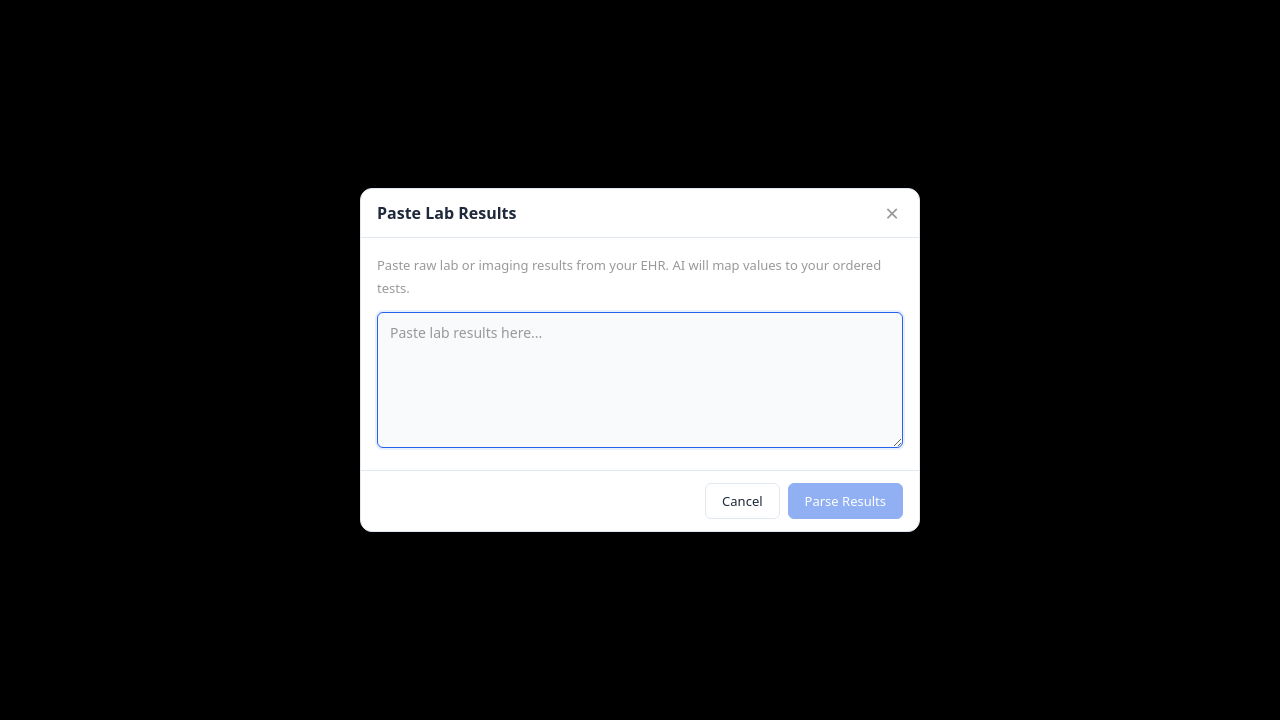
it: PasteLabModal › shows error state when no results are matched
Type "Lipase: 45" into the text box with test id "paste-textarea".
click(640, 380); type("Lipase: 45")  # box [377,312,903,448]
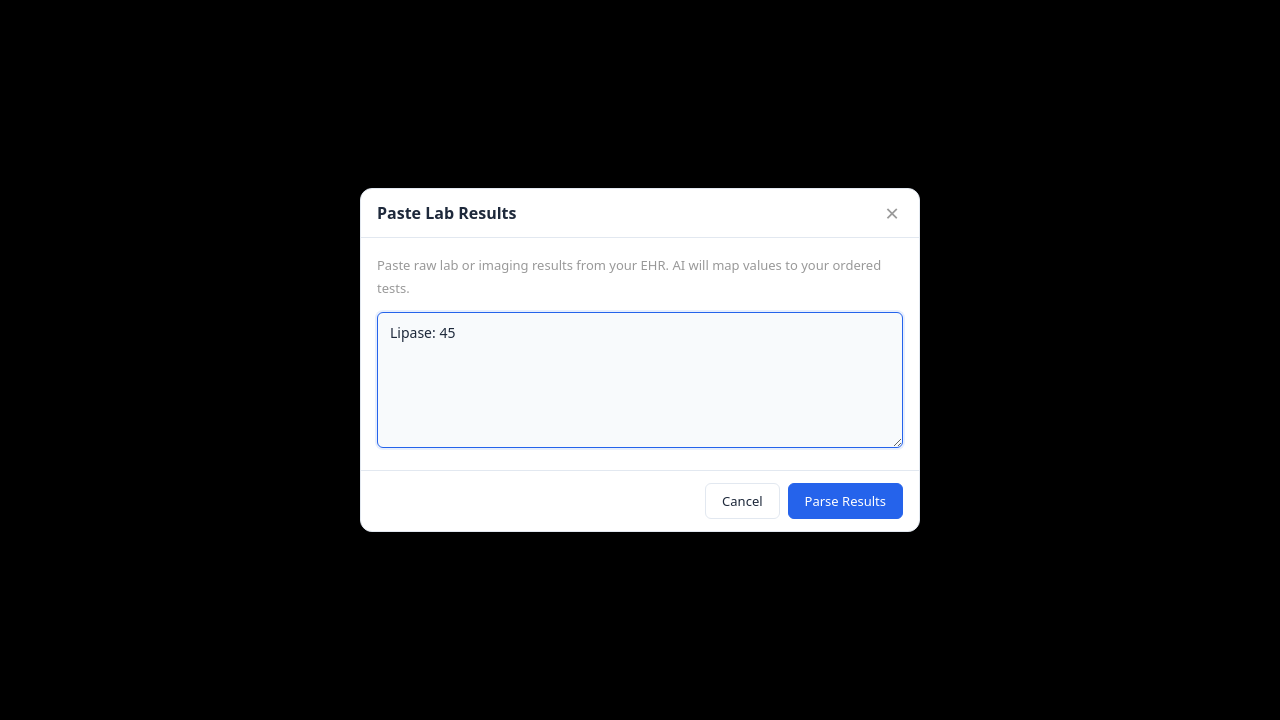
Click the button with test id "parse-btn".
click(845, 501)  # box [788,483,903,519]
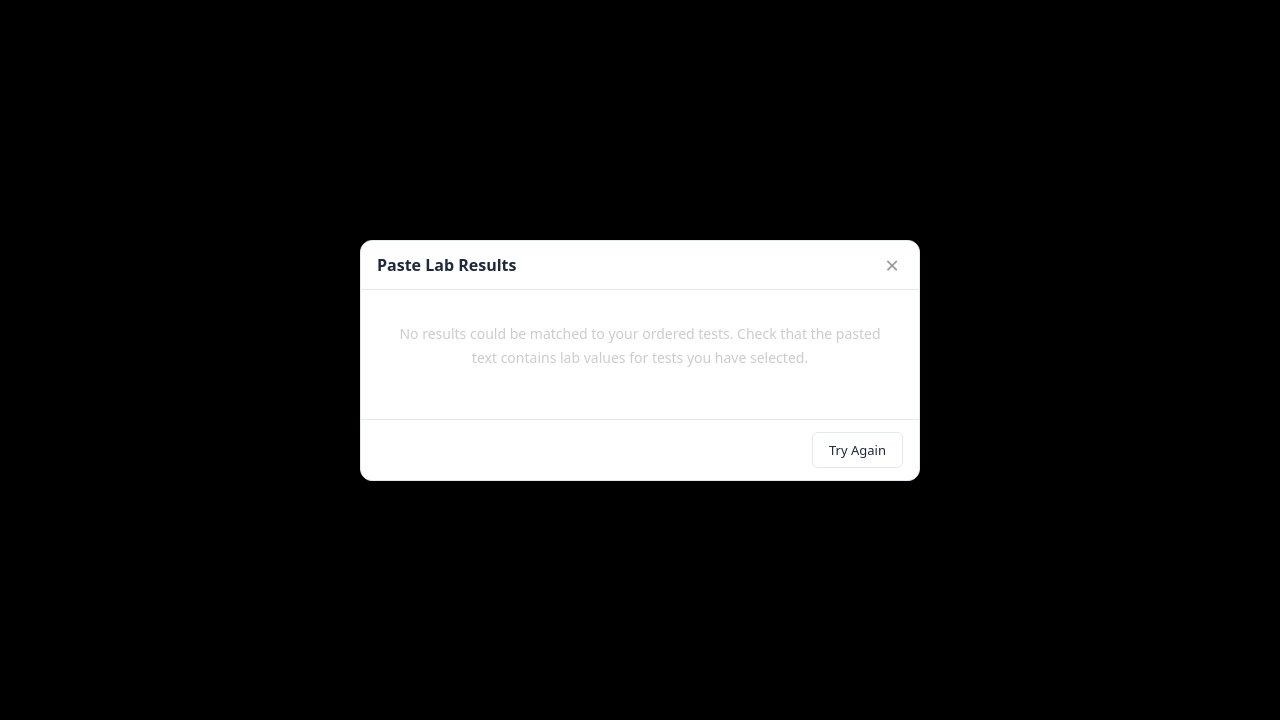
expect the element with test id "paste-error" is shown: met, box [399,324,880,367]
